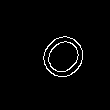O_SW: (22, 22, 88, 88)
